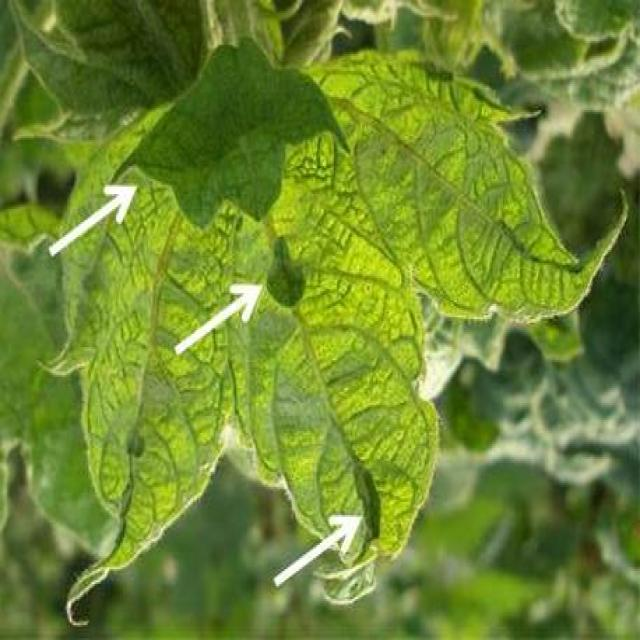Leaf Curl Virus: (138, 140, 394, 392)
